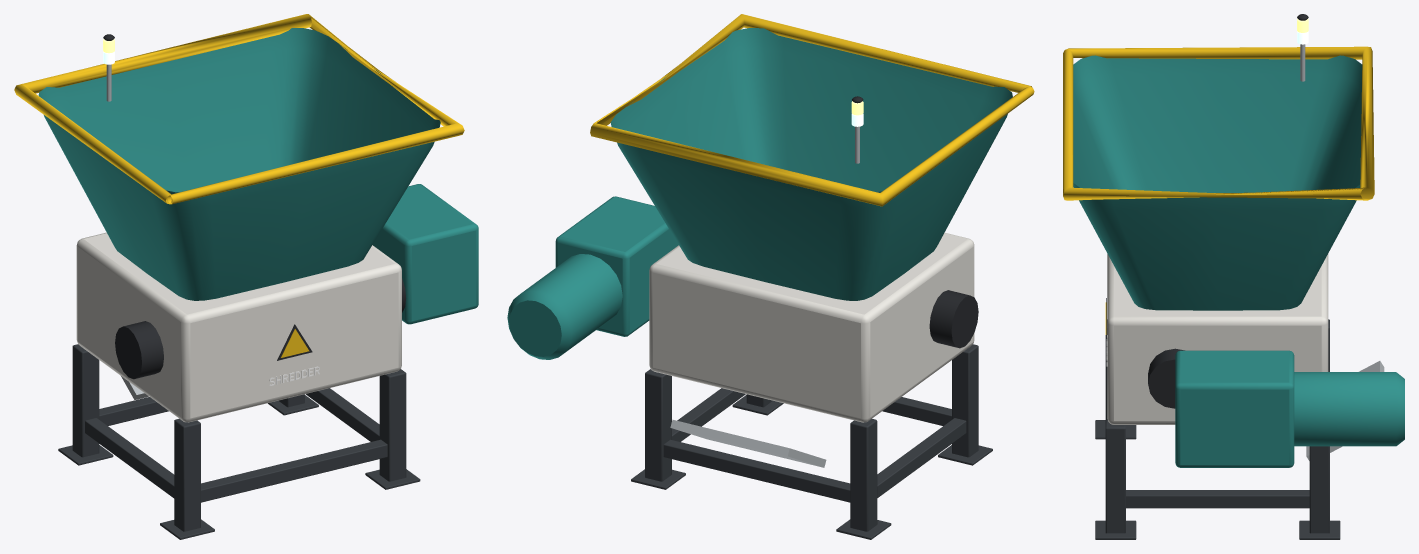
File: shredder.fbx
3 views of the same model, side by side, from view 1: azimuth 30°, elevation 25°; view 2: azimuth 150°, elevation 25°; view 3: azimuth 270°, elevation 25° (orthographic).
Visible parts, largest first — view 1: shredder; view 2: shredder; view 3: shredder.
Boxes of the visible parts, x1=… form: shredder: x1=14, y1=14, x2=478, y2=539; shredder: x1=507, y1=14, x2=1034, y2=539; shredder: x1=1063, y1=14, x2=1404, y2=539.
Bounding box in the file's own units: 2.51 × 2.75 × 2.01.
